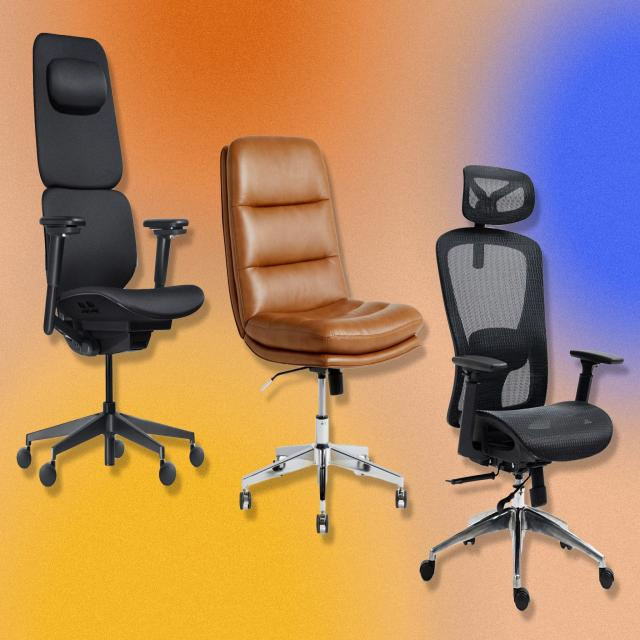chair: (408, 16, 640, 636), (0, 3, 214, 513), (215, 53, 430, 540)
